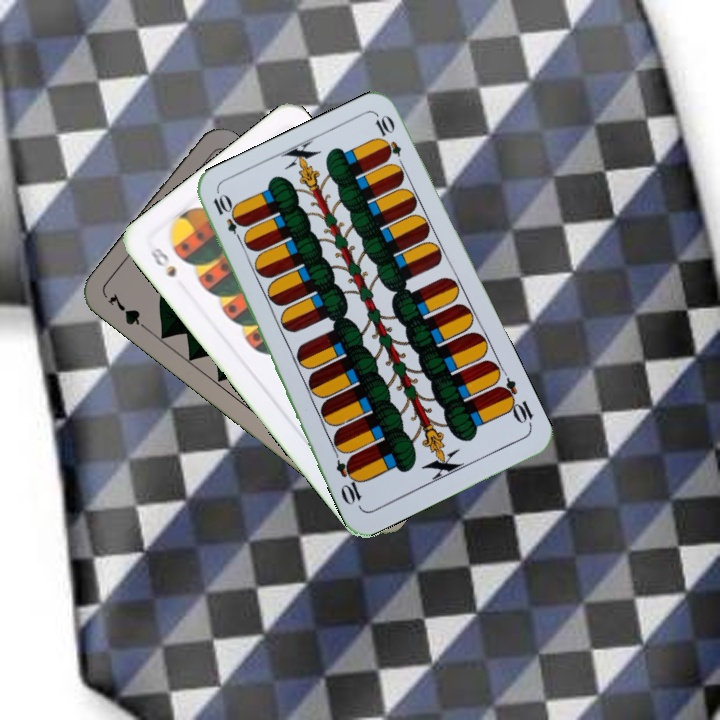E10: (493, 374, 536, 430), (208, 190, 247, 247)
G7: (104, 288, 154, 335)
S8: (146, 243, 179, 280)
